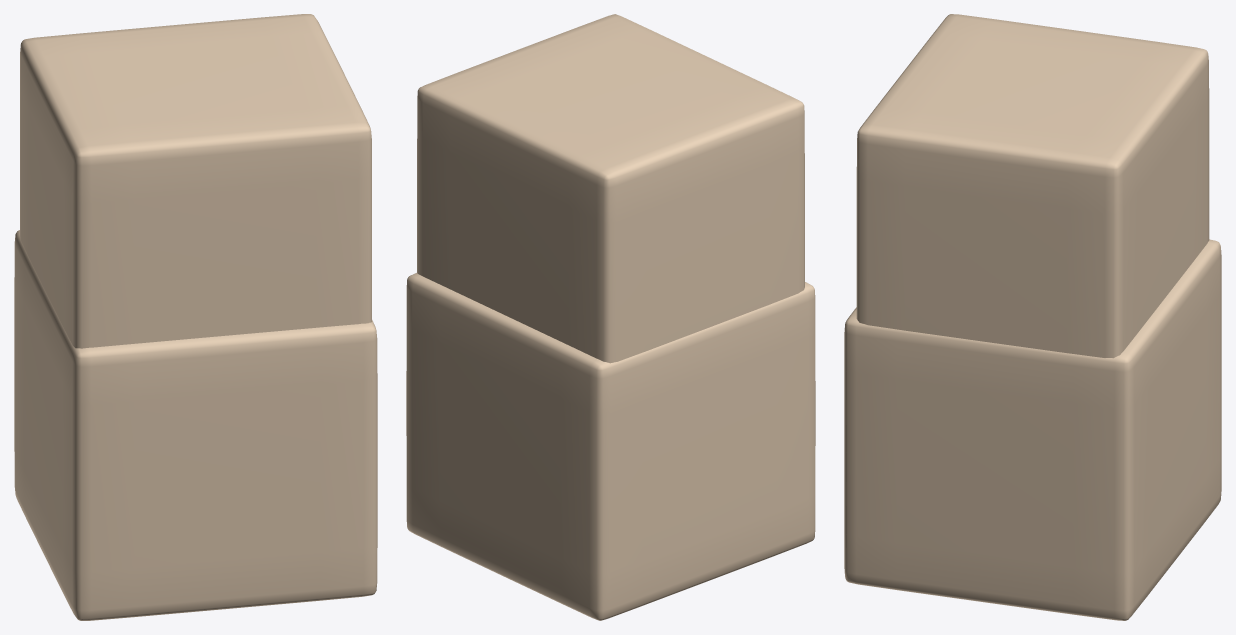
The model's file is PROP_FenceSegment_v2.glb.
3 renders of one model, left to right at view 1: azimuth 30°, elevation 25°; view 2: azimuth 150°, elevation 25°; view 3: azimuth 270°, elevation 25°, orthographic. The views are drawn at different scales.
Visible parts, largest first — view 1: PROP_FenceSegment_v2; view 2: PROP_FenceSegment_v2; view 3: PROP_FenceSegment_v2.
Boxes of the visible parts, x1=… form: PROP_FenceSegment_v2: x1=14, y1=14, x2=377, y2=620; PROP_FenceSegment_v2: x1=406, y1=14, x2=815, y2=620; PROP_FenceSegment_v2: x1=844, y1=14, x2=1221, y2=620.
Bounding box in the file's own units: 1.33 × 1.78 × 1.33.
